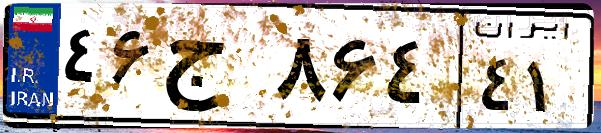1: (525, 38, 570, 115)
4: (385, 28, 445, 110), (57, 26, 110, 100), (475, 38, 525, 113)
6: (330, 28, 385, 110), (110, 28, 158, 98)
8: (270, 28, 330, 110)
ج: (158, 20, 270, 120)
